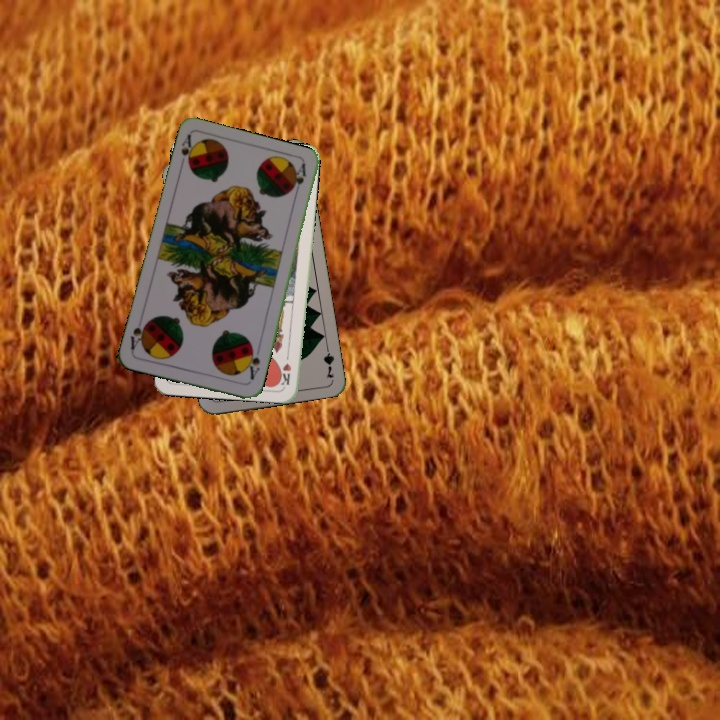G7: (319, 340, 337, 381)
HK: (278, 347, 294, 388)
SA: (177, 131, 199, 171), (242, 344, 263, 382)
